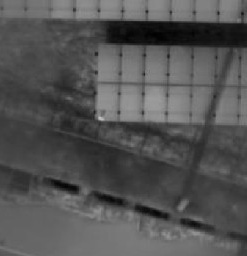solar: (93, 41, 122, 84), (118, 41, 147, 84), (142, 43, 171, 86), (166, 43, 195, 86), (190, 43, 219, 86), (214, 43, 243, 86), (92, 79, 121, 122), (117, 79, 146, 122), (142, 79, 171, 122), (163, 79, 192, 122), (188, 81, 217, 124), (214, 82, 243, 125)
